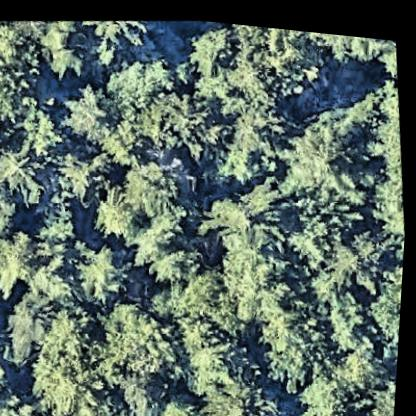tree-top: (209, 207, 303, 324), (353, 67, 414, 245), (222, 18, 323, 111), (205, 94, 299, 187), (32, 323, 122, 416), (245, 301, 338, 386), (273, 178, 365, 261), (142, 256, 248, 328), (169, 299, 254, 382), (101, 289, 184, 370), (288, 114, 367, 195), (133, 83, 216, 155), (361, 243, 406, 370), (118, 150, 187, 227), (5, 275, 63, 366), (128, 213, 204, 282), (102, 48, 184, 107), (30, 194, 88, 275), (31, 14, 95, 83), (296, 358, 371, 416), (76, 242, 140, 308), (110, 357, 181, 416), (0, 17, 37, 127), (60, 79, 122, 141), (83, 13, 148, 68), (88, 182, 147, 241), (332, 227, 388, 288), (203, 370, 275, 416), (62, 148, 116, 207), (329, 294, 381, 349), (0, 227, 42, 295), (187, 16, 236, 74), (20, 99, 70, 155), (315, 26, 382, 66), (58, 386, 143, 416), (343, 336, 391, 386), (0, 142, 46, 191), (151, 382, 210, 416), (0, 157, 28, 228), (0, 386, 54, 416), (368, 30, 399, 72), (371, 373, 400, 416)
